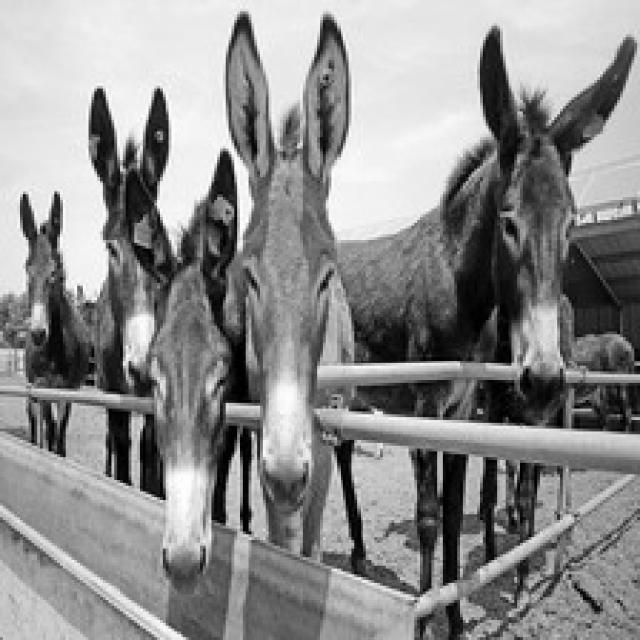Donkey: (474, 23, 637, 611), (331, 134, 503, 637), (220, 9, 363, 572), (146, 146, 240, 594), (86, 83, 174, 497), (17, 189, 89, 454), (572, 332, 634, 428)
